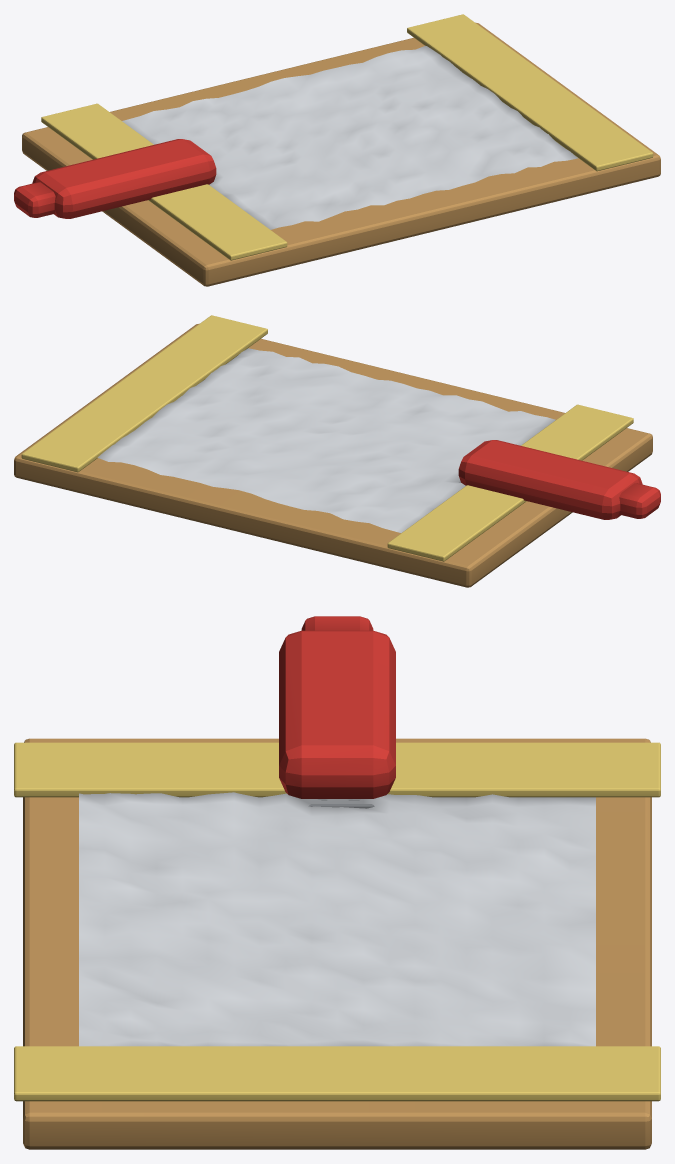
File: foil-card.glb
3 renders of one model, top to bottom at view 1: azimuth 30°, elevation 25°; view 2: azimuth 150°, elevation 25°; view 3: azimuth 270°, elevation 25°, orthographic. The views are drawn at different scales.
Visible parts, largest first — view 1: Board; view 2: Board; view 3: Board.
Part boxes in pixels (x1,y1,x2,y2): Board: (14,14,660,286); Board: (14,315,660,587); Board: (14,616,660,1149).
Size of the model in its own units: 0.048 by 0.0046 by 0.0288.
